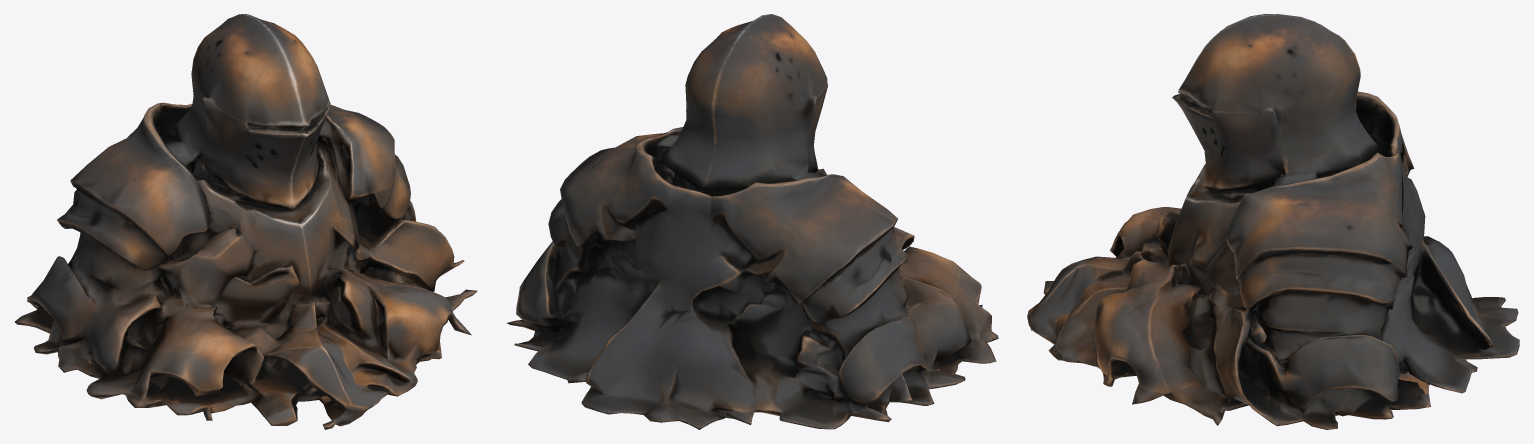
Rendered from rusted_armor_pile.glb.
3 renders of one model, left to right at view 1: azimuth 30°, elevation 25°; view 2: azimuth 150°, elevation 25°; view 3: azimuth 270°, elevation 25°, orthographic. The views are drawn at different scales.
Size of the model in its own units: 1.98 by 1.48 by 2.
1 material, 1 textured.
